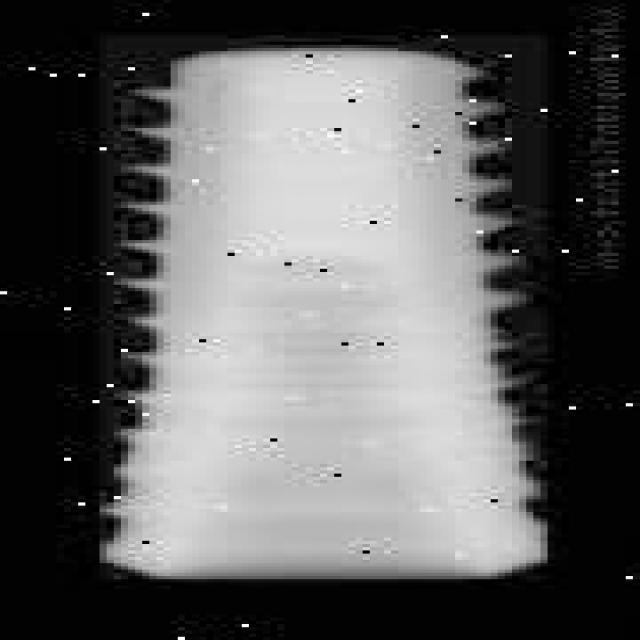Nobel Biocare Implant: (95, 33, 548, 580)
